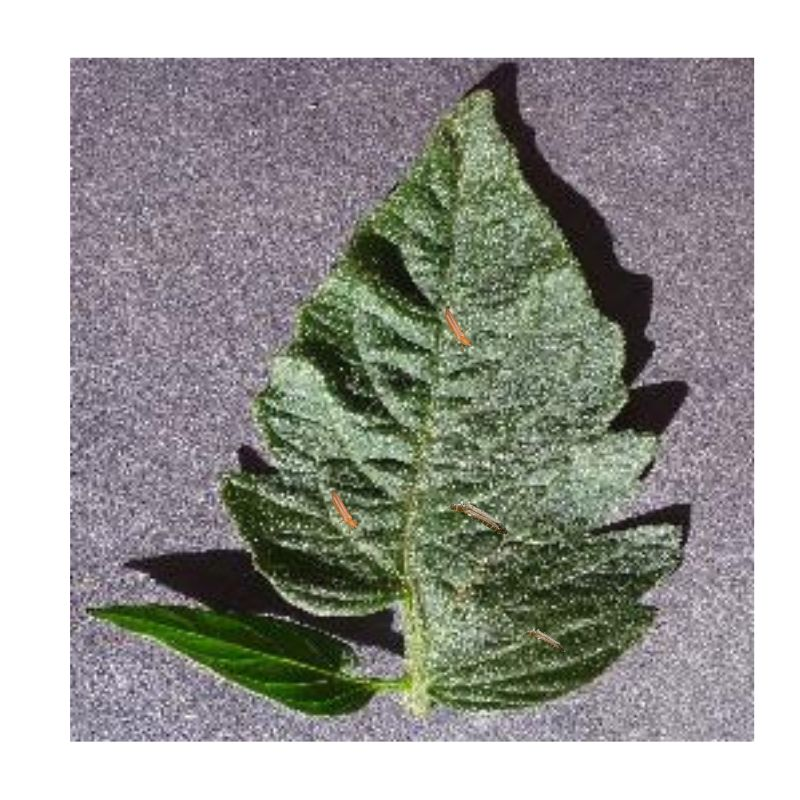thrips: (450, 498, 508, 536), (442, 309, 474, 347), (329, 490, 358, 531), (527, 624, 566, 651)
